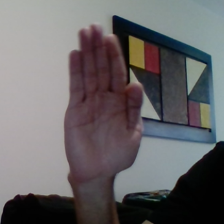left: (57, 21, 155, 189)
